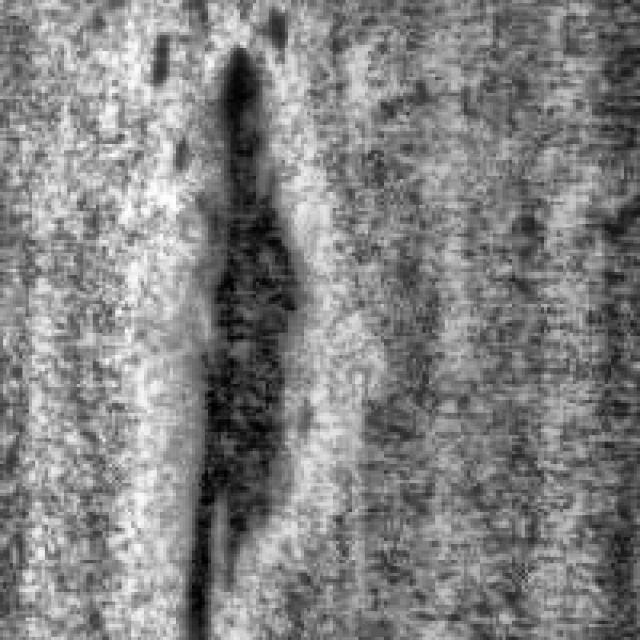Patches: (166, 32, 304, 634), (128, 12, 179, 102)
